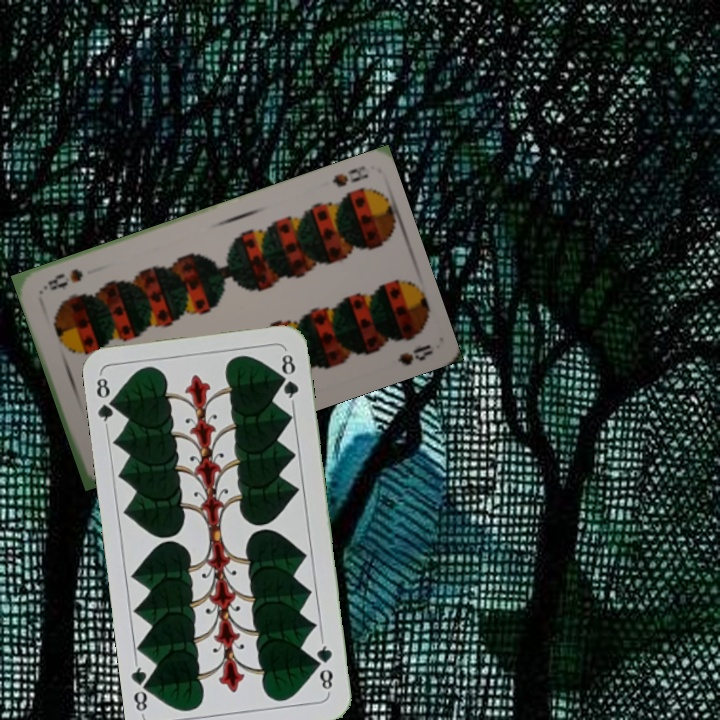G8: (92, 374, 121, 430), (311, 636, 336, 695)
S8: (328, 161, 372, 190)
